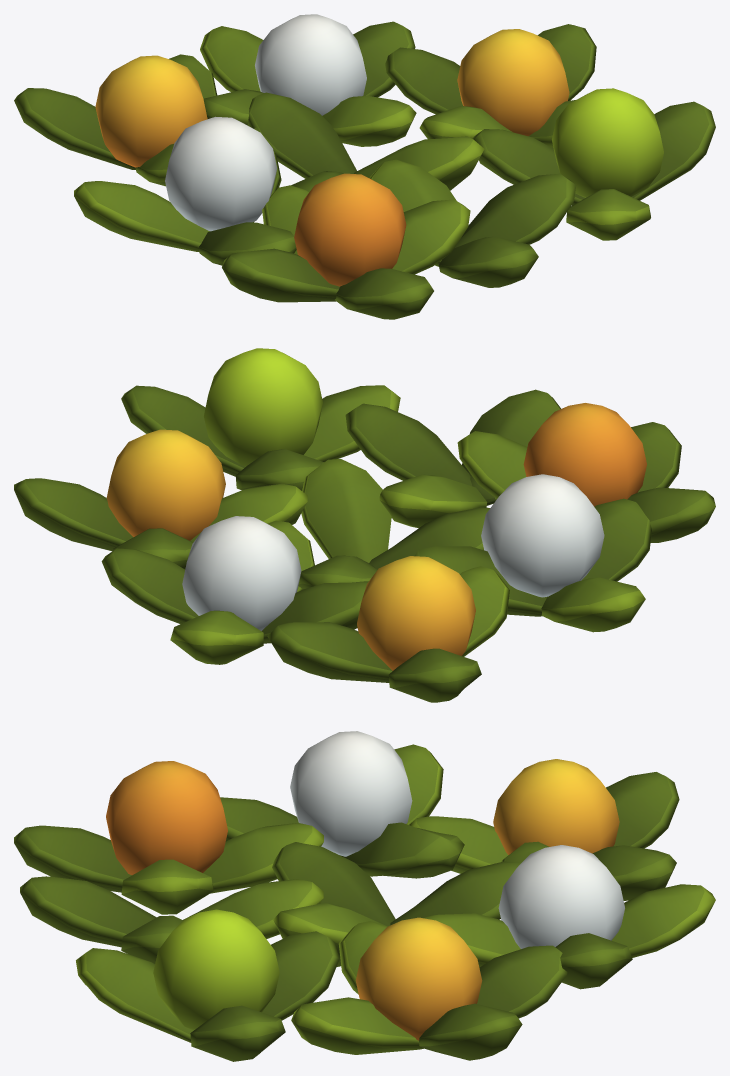
File: grass_flower_balls_low_LOD_group.fbx
The picture shows the model from 3 angles, top to bottom: view 1: azimuth 30°, elevation 25°; view 2: azimuth 150°, elevation 25°; view 3: azimuth 270°, elevation 25°; orthographic projection. The views are drawn at different scales.
Visible parts, largest first — view 1: grass_flower_balls_low_LOD0; view 2: grass_flower_balls_low_LOD0; view 3: grass_flower_balls_low_LOD0.
Boxes of the visible parts, <box> form: grass_flower_balls_low_LOD0: <box>14,14,715,319</box>; grass_flower_balls_low_LOD0: <box>14,348,715,702</box>; grass_flower_balls_low_LOD0: <box>14,731,715,1061</box>.
Size of what is drawn, in the model's own units: 111 by 23.4 by 111.
Materials: 1 (1 with a texture image).
